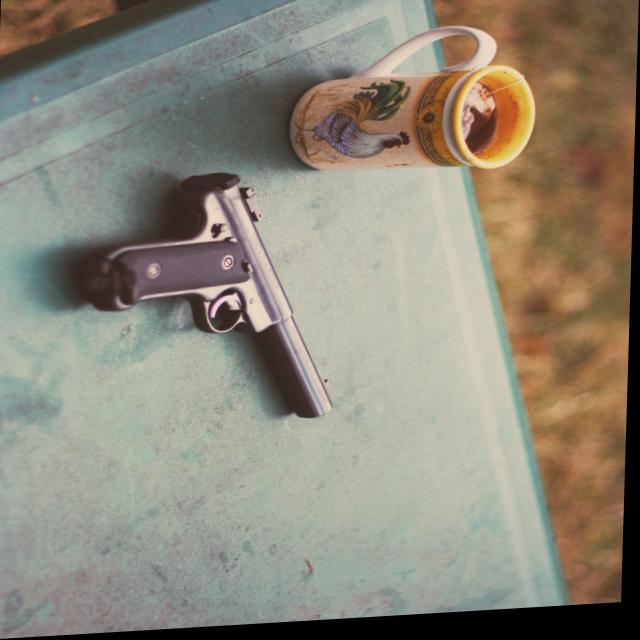handgun: (84, 169, 345, 432)
